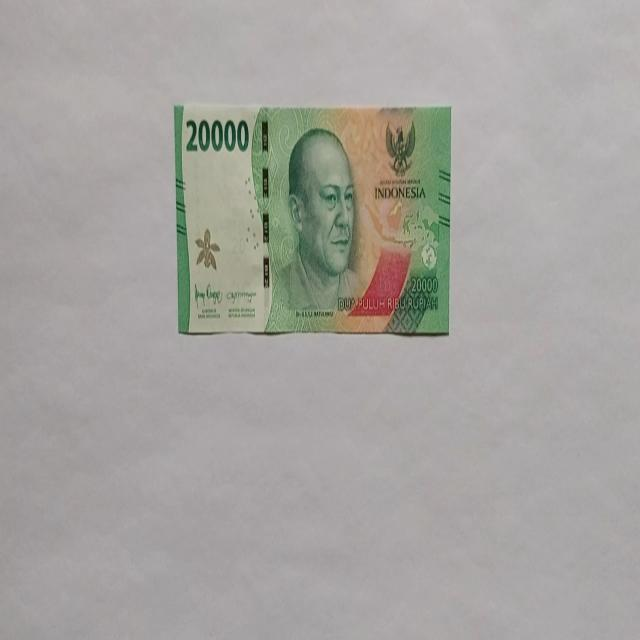dua puluh ribu rupiah: (174, 101, 452, 337), (264, 125, 368, 332)
